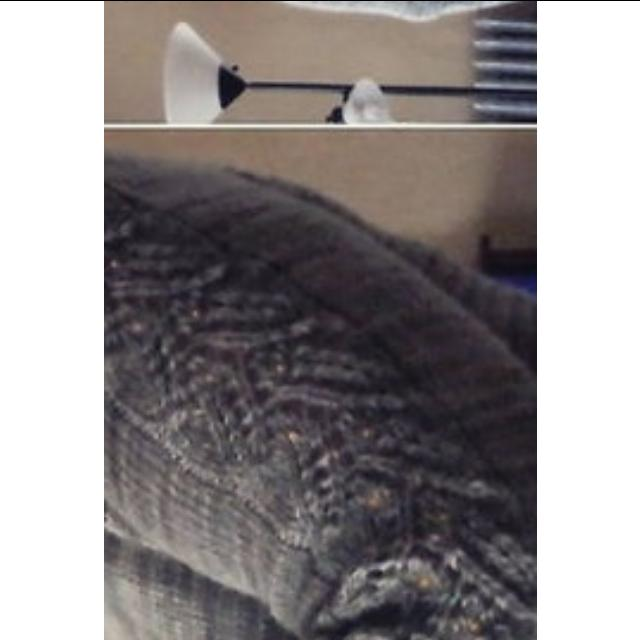linen: (104, 300, 536, 640)
